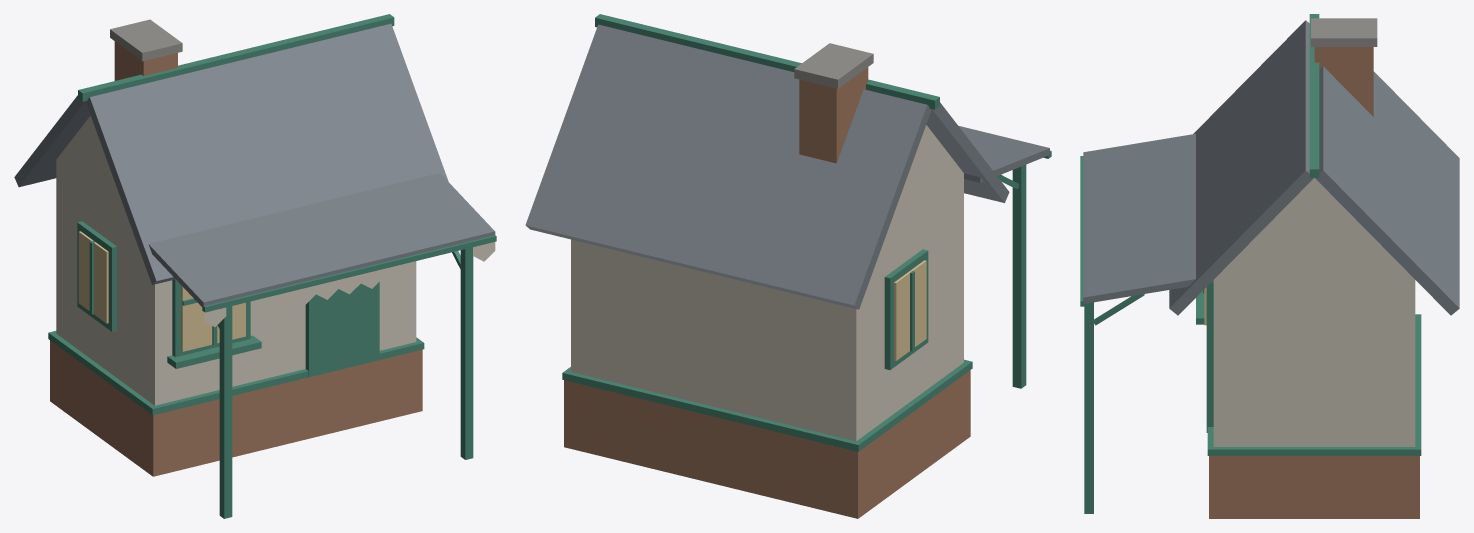
The model's file is rail_station_building.glb.
3 renders of one model, left to right at view 1: azimuth 30°, elevation 25°; view 2: azimuth 150°, elevation 25°; view 3: azimuth 270°, elevation 25°, orthographic. The views are drawn at different scales.
Size of the model in its own units: 3.1 by 3.59 by 3.2.
